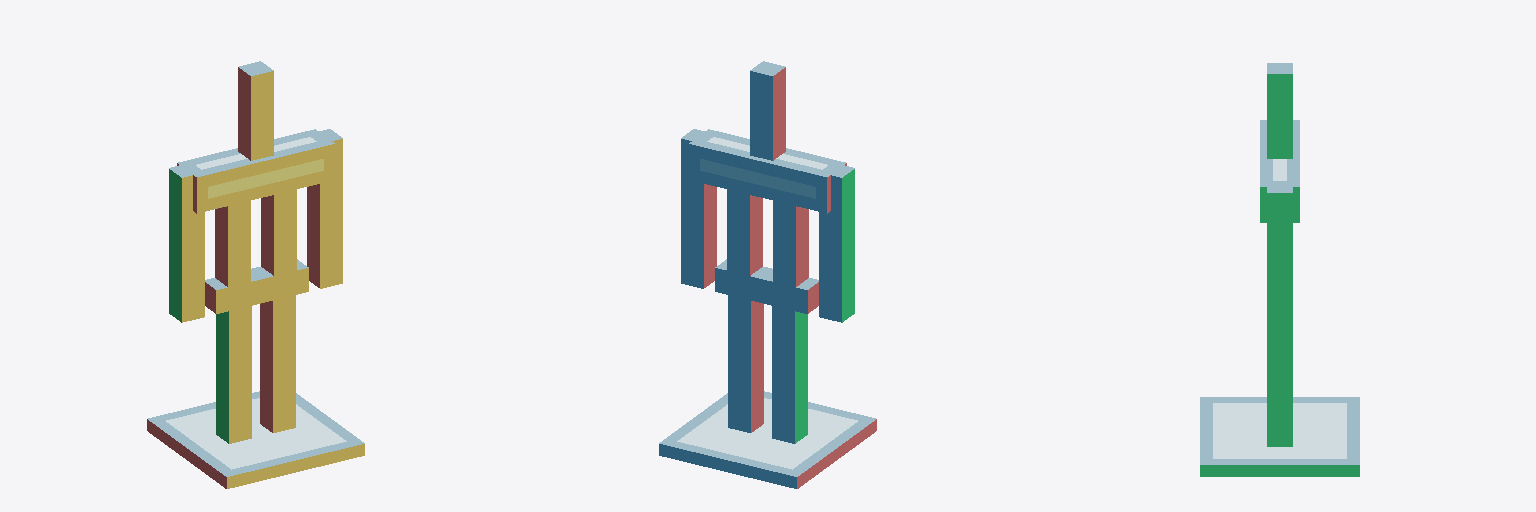
The picture shows the model from 3 angles: view 1: azimuth 30°, elevation 25°; view 2: azimuth 150°, elevation 25°; view 3: azimuth 270°, elevation 25°; orthographic projection.
Visible parts, largest first — view 1: body, baseplate, LeftArm, RightLeg, LeftLeg, RightArm, head; view 2: body, baseplate, LeftArm, RightLeg, LeftLeg, RightArm, head; view 3: baseplate, RightArm, RightLeg, head, body.
Part boxes in pixels (bbox=[...]): body: bbox=[177, 129, 334, 313]; baseplate: bbox=[147, 391, 364, 488]; LeftArm: bbox=[169, 163, 204, 322]; RightLeg: bbox=[260, 295, 295, 432]; LeftLeg: bbox=[216, 306, 251, 443]; RightArm: bbox=[307, 129, 342, 288]; head: bbox=[238, 61, 273, 160]; body: bbox=[689, 129, 846, 313]; baseplate: bbox=[659, 391, 876, 488]; LeftArm: bbox=[819, 163, 854, 322]; RightLeg: bbox=[728, 295, 763, 432]; LeftLeg: bbox=[772, 306, 807, 443]; RightArm: bbox=[681, 129, 716, 288]; head: bbox=[750, 61, 785, 160]; baseplate: bbox=[1200, 397, 1359, 476]; RightArm: bbox=[1267, 181, 1292, 337]; RightLeg: bbox=[1267, 338, 1292, 446]; head: bbox=[1267, 63, 1292, 158]; body: bbox=[1260, 120, 1299, 222].
Bounding box in the file's own units: 0.875 × 1.94 × 0.75.
1 materials, 1 textured.